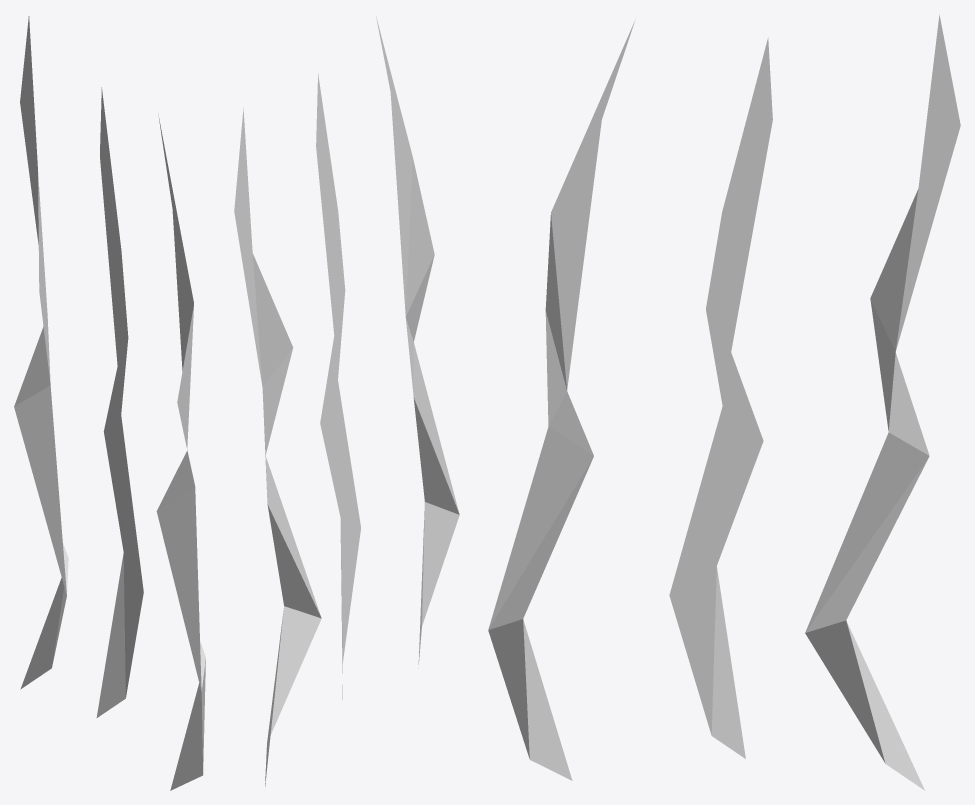
The model's file is drum_waves.obj.
The picture shows the model from 3 angles, left to right: view 1: azimuth 30°, elevation 25°; view 2: azimuth 150°, elevation 25°; view 3: azimuth 270°, elevation 25°; orthographic projection. The views are drawn at different scales.
Parts seen in each view (by area): view 1: drum_waves; view 2: drum_waves; view 3: drum_waves.
Boxes of the visible parts, x1,y1,x2,y2 form: drum_waves: [14, 16, 205, 790]; drum_waves: [234, 16, 459, 786]; drum_waves: [488, 14, 960, 790].
Bounding box in the file's own units: 3.12 × 104 × 56.56.
Materials: 1 (1 with a texture image).
